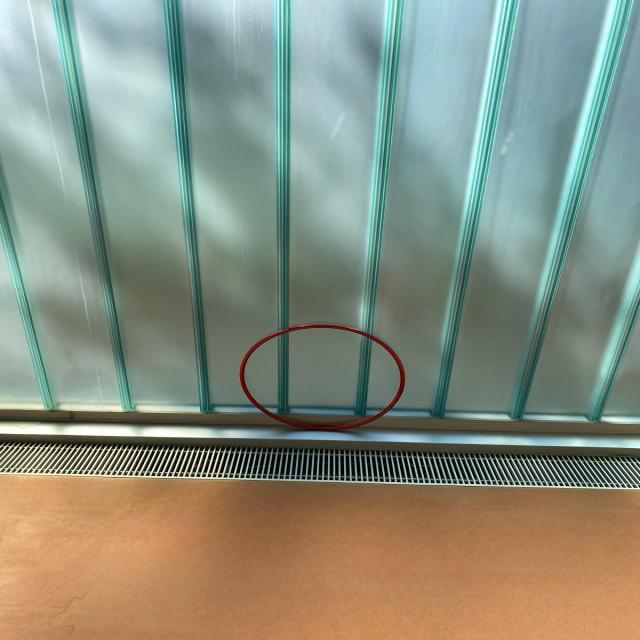Circle: (238, 321, 408, 434)
